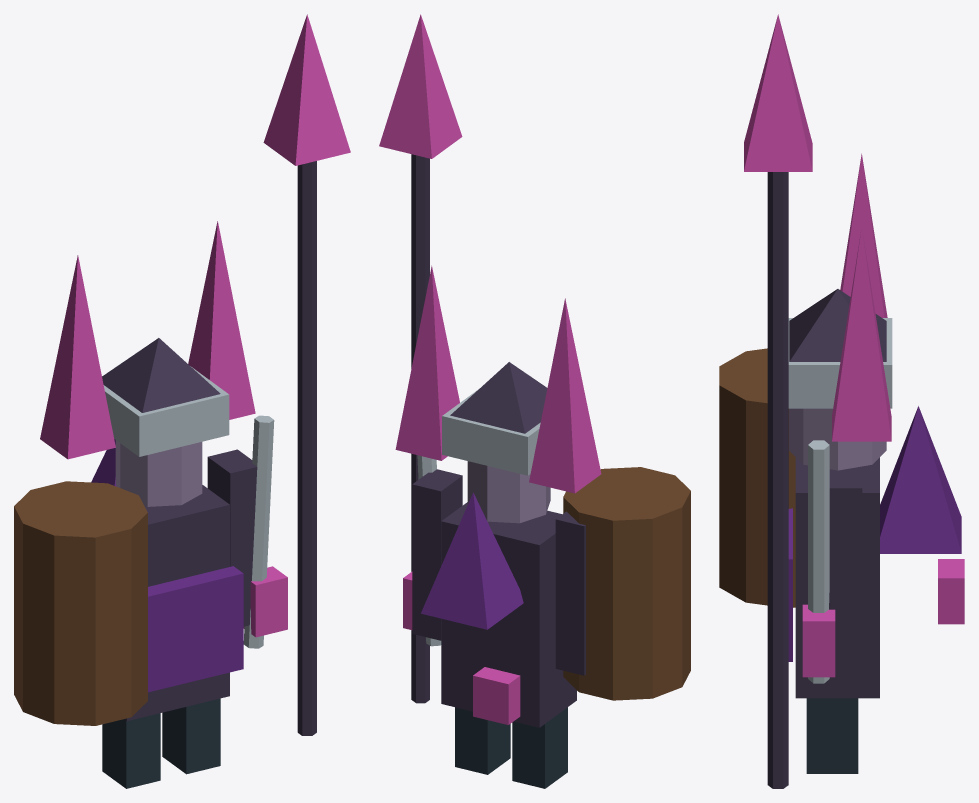
The model's file is pikeman.obj.
3 renders of one model, left to right at view 1: azimuth 30°, elevation 25°; view 2: azimuth 150°, elevation 25°; view 3: azimuth 270°, elevation 25°, orthographic. The views are drawn at different scales.
Parts seen in each view (by area): view 1: infantry; view 2: infantry; view 3: infantry.
Boxes of the visible parts, left/top/right/bottom form: infantry: left=14, top=14, right=350, bottom=788; infantry: left=379, top=14, right=690, bottom=788; infantry: left=719, top=14, right=964, bottom=788.
Size of the model in its own units: 1.27 by 2.95 by 0.8225.
